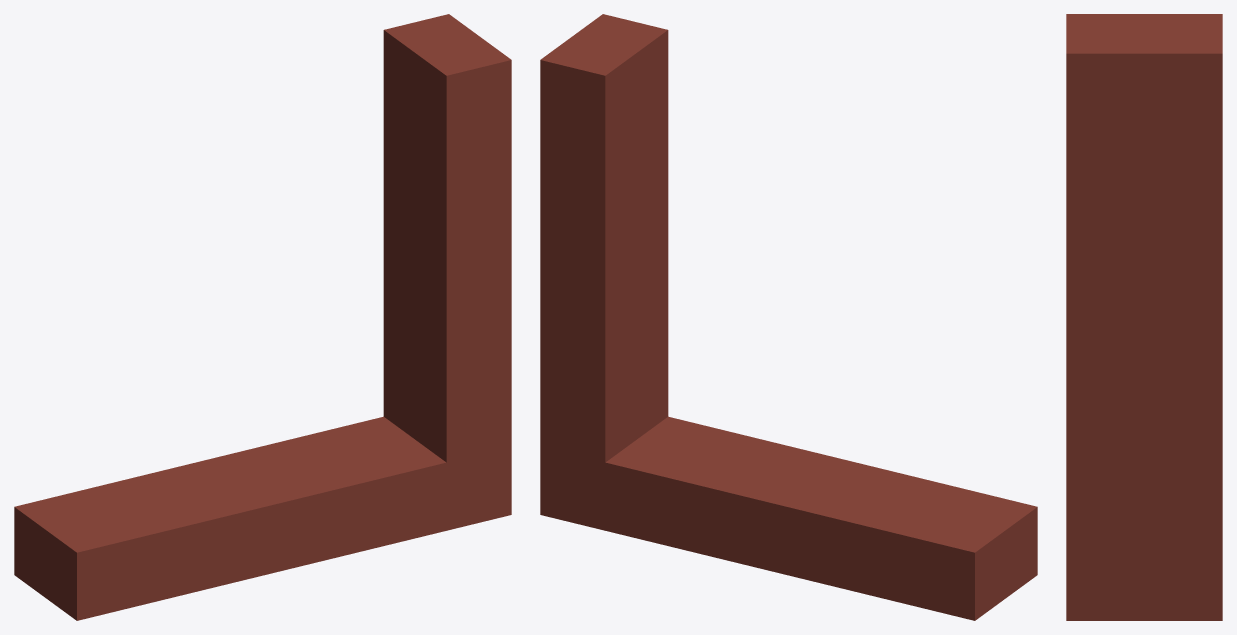
The model's file is wallExtensionCorner.fbx.
The picture shows the model from 3 angles, left to right: view 1: azimuth 30°, elevation 25°; view 2: azimuth 150°, elevation 25°; view 3: azimuth 270°, elevation 25°; orthographic projection. The views are drawn at different scales.
Visible parts, largest first — view 1: wallExtensionCorner; view 2: wallExtensionCorner; view 3: wallExtensionCorner.
Boxes of the visible parts, x1,y1,x2,y2 form: wallExtensionCorner: [14, 14, 511, 620]; wallExtensionCorner: [540, 14, 1037, 620]; wallExtensionCorner: [1066, 14, 1222, 620].
Bounding box in the file's own units: 200 × 200 × 50.
Materials: 1 (1 with a texture image).
